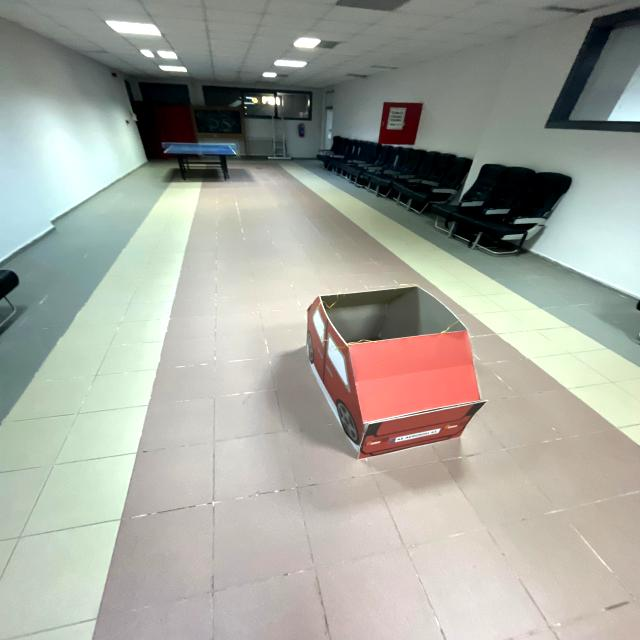red_car: (275, 278, 514, 480)
